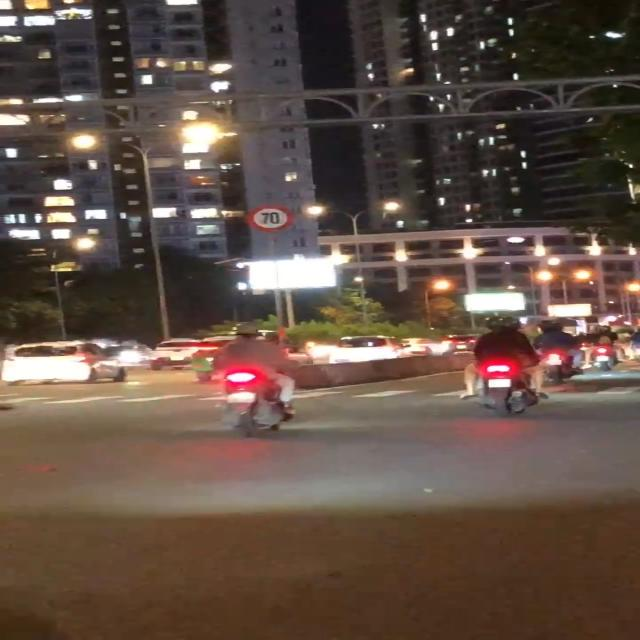Bien bao toc do toi da cho phep: (242, 203, 297, 235)
